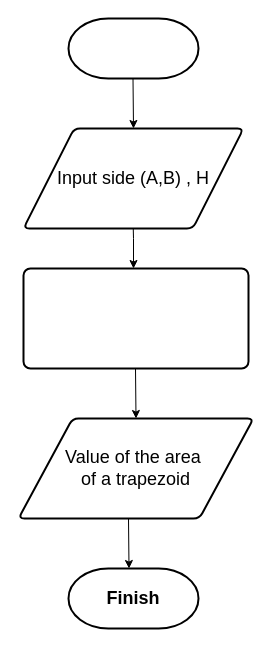
The diagram is 271 pixels wide and 646 high, and some of its shapes have lost their labels. Each missing label, with the box of its shape:
Area = (a + b) / 2 * H: (22, 267, 249, 369)
Start: (67, 17, 199, 79)
